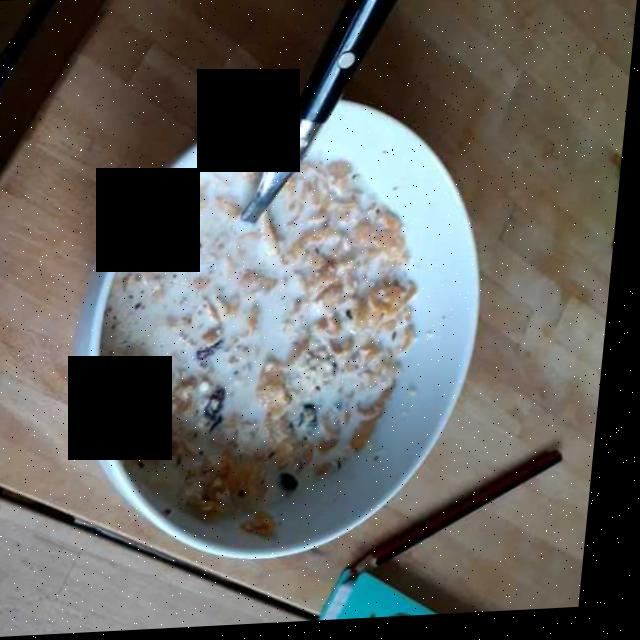dried-raisins: (187, 334, 333, 497), (181, 341, 348, 455)
milk: (118, 154, 420, 496), (159, 164, 413, 519)
muesli: (119, 167, 419, 515), (124, 185, 417, 522)
